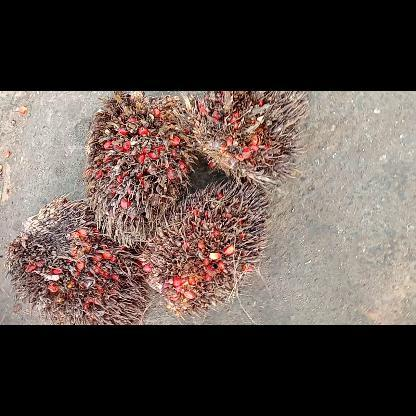Terlalu masak: (0, 192, 156, 324), (138, 176, 276, 320), (84, 90, 200, 250), (176, 90, 312, 192)
